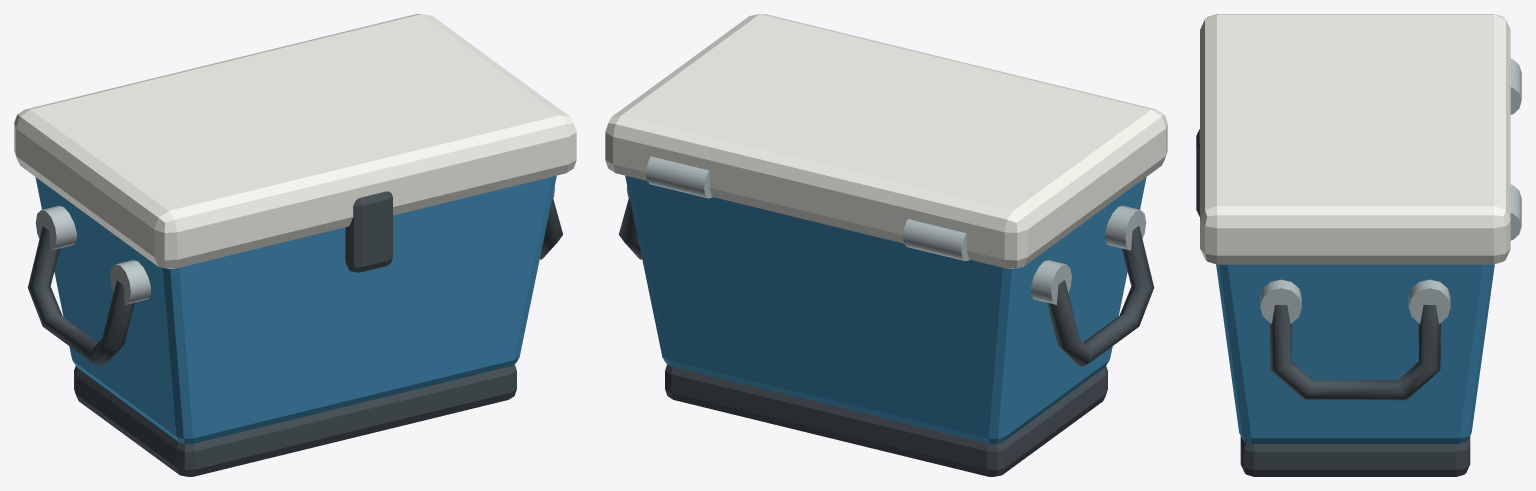
Rendered from cooler.glb.
3 renders of one model, left to right at view 1: azimuth 30°, elevation 25°; view 2: azimuth 150°, elevation 25°; view 3: azimuth 270°, elevation 25°, orthographic.
Visible parts, largest first — view 1: Cooler closed lid, Cooler tapered closed body, Cooler bottom foot, Cooler folded side carry handle, Cooler front latch, Cooler side handle hinge.001, Cooler side handle hinge, Cooler folded side carry handle.001; view 2: Cooler closed lid, Cooler tapered closed body, Cooler bottom foot, Cooler folded side carry handle, Cooler rear lid hinge.001, Cooler rear lid hinge, Cooler side handle hinge, Cooler side handle hinge.001, Cooler folded side carry handle.001; view 3: Cooler closed lid, Cooler tapered closed body, Cooler bottom foot, Cooler folded side carry handle.001, Cooler side handle hinge.003, Cooler side handle hinge.002, Cooler rear lid hinge.001, Cooler rear lid hinge.
Part boxes in pixels (left/top/right/bottom): Cooler closed lid: left=14, top=14, right=576, bottom=268; Cooler tapered closed body: left=35, top=175, right=556, bottom=444; Cooler bottom foot: left=74, top=364, right=516, bottom=476; Cooler folded side carry handle: left=27, top=226, right=134, bottom=367; Cooler front latch: left=345, top=191, right=392, bottom=272; Cooler side handle hinge.001: left=35, top=205, right=76, bottom=250; Cooler side handle hinge: left=110, top=260, right=150, bottom=304; Cooler folded side carry handle.001: left=540, top=198, right=562, bottom=259; Cooler closed lid: left=605, top=14, right=1167, bottom=268; Cooler tapered closed body: left=625, top=175, right=1146, bottom=444; Cooler bottom foot: left=665, top=364, right=1107, bottom=476; Cooler folded side carry handle: left=1047, top=226, right=1154, bottom=367; Cooler rear lid hinge.001: left=645, top=156, right=712, bottom=198; Cooler rear lid hinge: left=903, top=219, right=969, bottom=261; Cooler side handle hinge: left=1105, top=205, right=1146, bottom=250; Cooler side handle hinge.001: left=1031, top=260, right=1071, bottom=304; Cooler folded side carry handle.001: left=619, top=198, right=641, bottom=259; Cooler closed lid: left=1200, top=14, right=1510, bottom=264; Cooler tapered closed body: left=1216, top=264, right=1494, bottom=443; Cooler bottom foot: left=1240, top=436, right=1470, bottom=476; Cooler folded side carry handle.001: left=1270, top=305, right=1440, bottom=400; Cooler side handle hinge.003: left=1408, top=279, right=1450, bottom=323; Cooler side handle hinge.002: left=1260, top=279, right=1301, bottom=323; Cooler rear lid hinge.001: left=1510, top=184, right=1521, bottom=240; Cooler rear lid hinge: left=1510, top=59, right=1521, bottom=114.
Size of the model in its own units: 0.7816 by 0.4725 by 0.4815.
